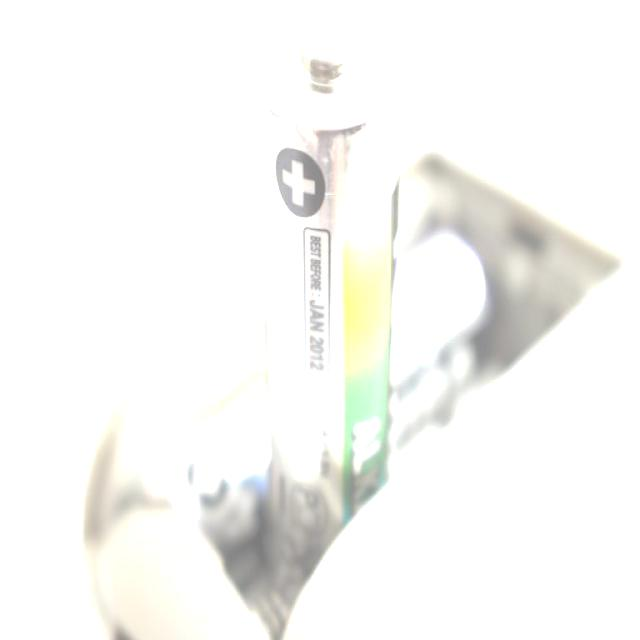AA: (252, 4, 409, 594)
